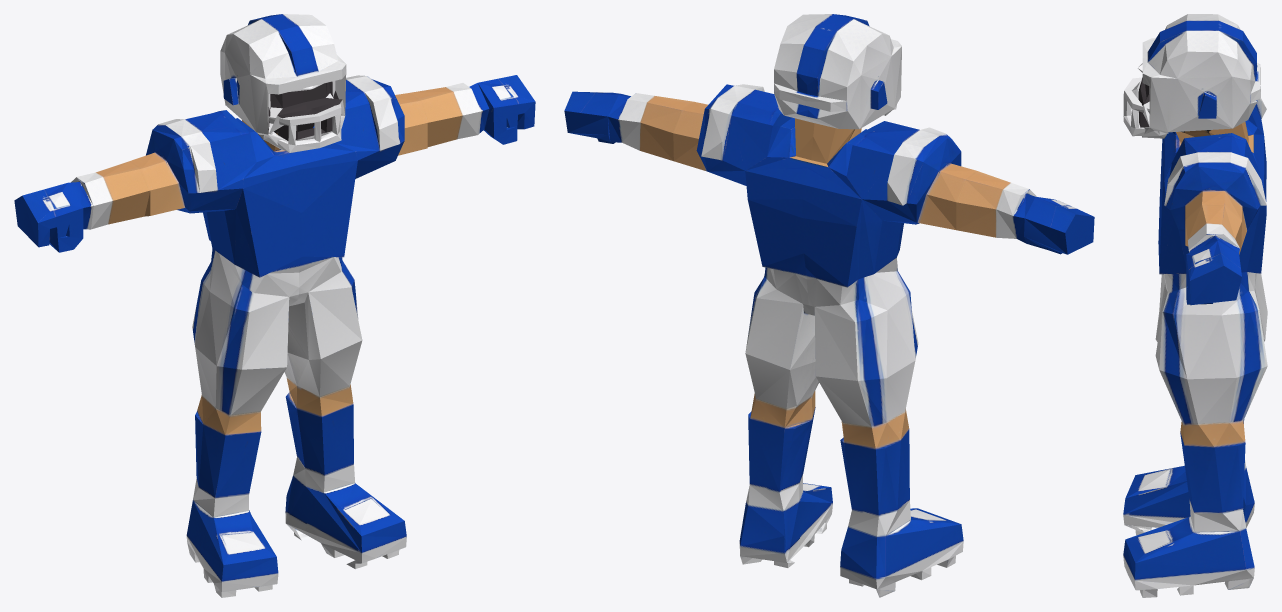
File: base-medium.glb
The picture shows the model from 3 angles, left to right: view 1: azimuth 30°, elevation 25°; view 2: azimuth 150°, elevation 25°; view 3: azimuth 270°, elevation 25°; orthographic projection. The views are drawn at different scales.
Visible parts, largest first — view 1: base_medium; view 2: base_medium; view 3: base_medium.
Part boxes in pixels (x1,y1,x2,y2): base_medium: [14, 14, 535, 597]; base_medium: [564, 14, 1094, 597]; base_medium: [1123, 14, 1267, 597].
Size of the model in its own units: 1.81 by 1.85 by 0.4585.
Materials: 1 (1 with a texture image).
